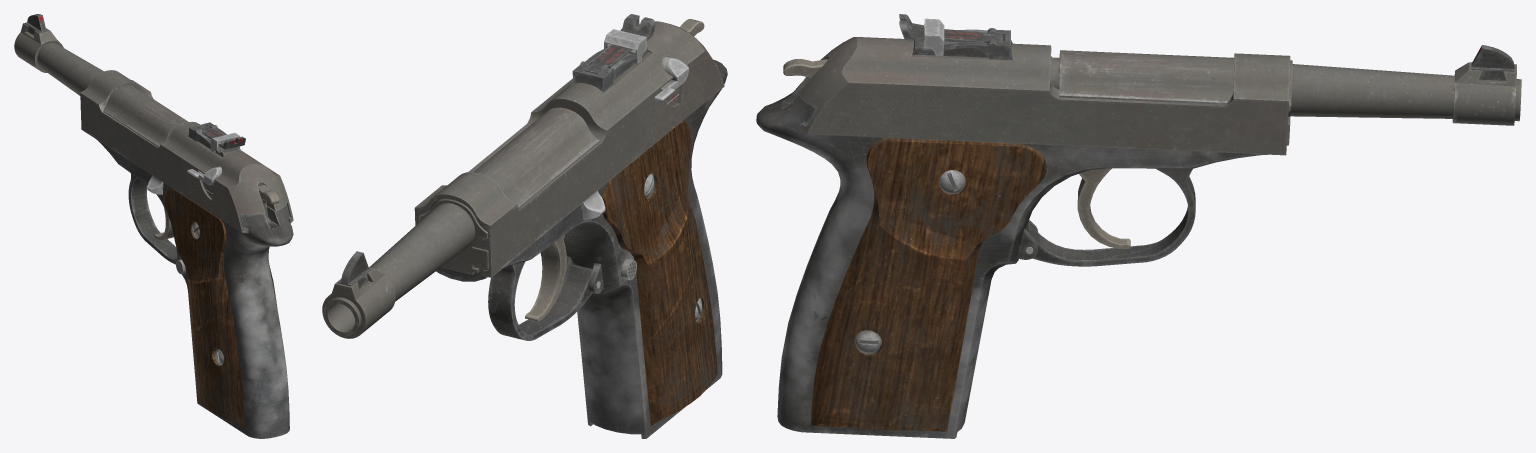
File: pistol.glb
3 views of the same model, side by side, from view 1: azimuth 30°, elevation 25°; view 2: azimuth 150°, elevation 25°; view 3: azimuth 270°, elevation 25° (orthographic). The views are drawn at different scales.
Parts seen in each view (by area): view 1: pistol; view 2: pistol; view 3: pistol.
Boxes of the visible parts, x1=… form: pistol: x1=14, y1=14, x2=293, y2=438; pistol: x1=322, y1=14, x2=727, y2=438; pistol: x1=756, y1=14, x2=1521, y2=438.
Size of the model in its own units: 0.031 by 0.127 by 0.2169.
Materials: 1 (1 with a texture image).
